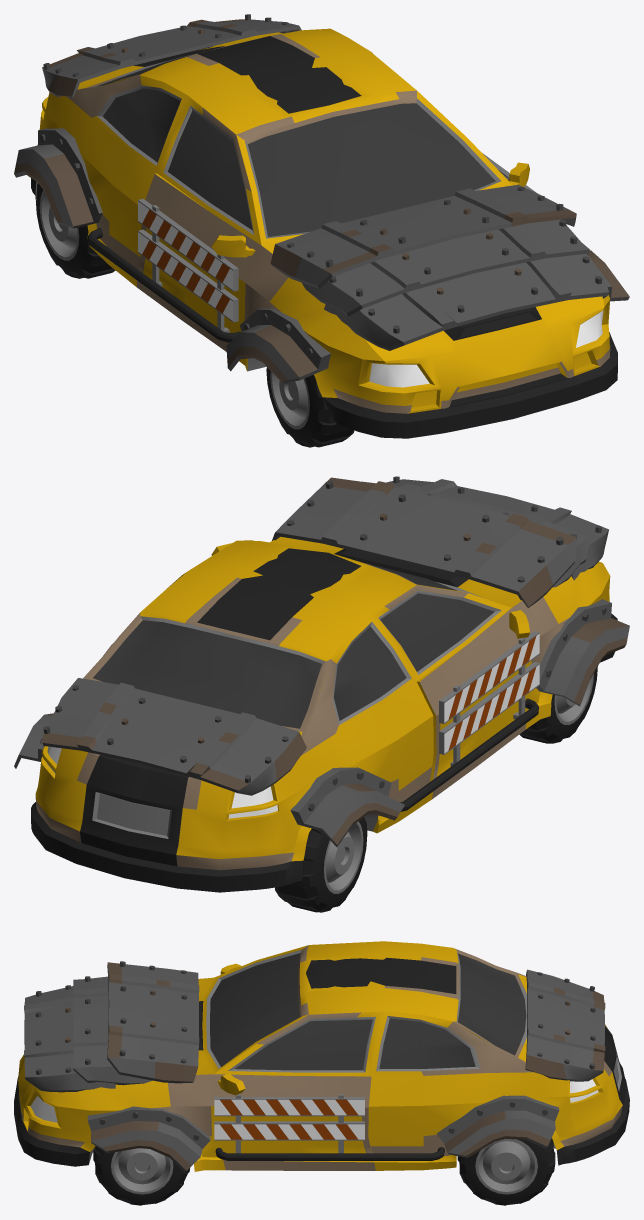
File: Vehicle Sports Armored.glb
The picture shows the model from 3 angles, top to bottom: view 1: azimuth 30°, elevation 25°; view 2: azimuth 150°, elevation 25°; view 3: azimuth 270°, elevation 25°; orthographic projection. The views are drawn at different scales.
Parts seen in each view (by area): view 1: Sports_Armored, FrontWheel_R, BackWheels; view 2: Sports_Armored, BackWheels, FrontWheel_R; view 3: Sports_Armored, BackWheels, FrontWheel_L.
Boxes of the visible parts, left/top/right/bottom form: Sports_Armored: left=14, top=14, right=629, bottom=438; FrontWheel_R: left=266, top=367, right=354, bottom=447; BackWheels: left=36, top=183, right=115, bottom=278; Sports_Armored: left=14, top=476, right=629, bottom=892; BackWheels: left=275, top=817, right=367, bottom=912; FrontWheel_R: left=519, top=666, right=597, bottom=743; Sports_Armored: left=14, top=941, right=629, bottom=1172; BackWheels: left=457, top=1138, right=555, bottom=1205; FrontWheel_L: left=93, top=1146, right=189, bottom=1205.
Size of the model in its own units: 2.95 by 1.86 by 5.66.
Materials: 3 (1 with a texture image).
